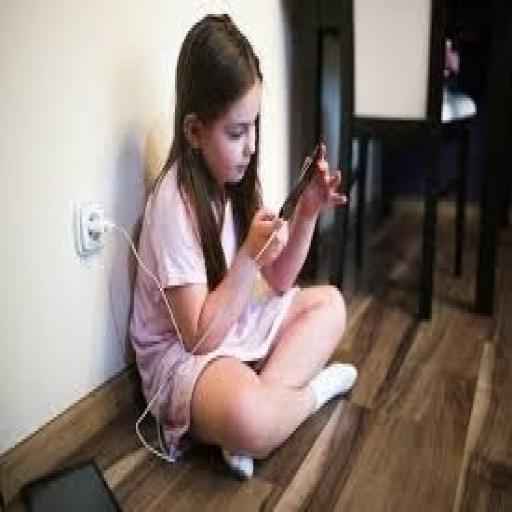texting: (127, 11, 359, 476)
